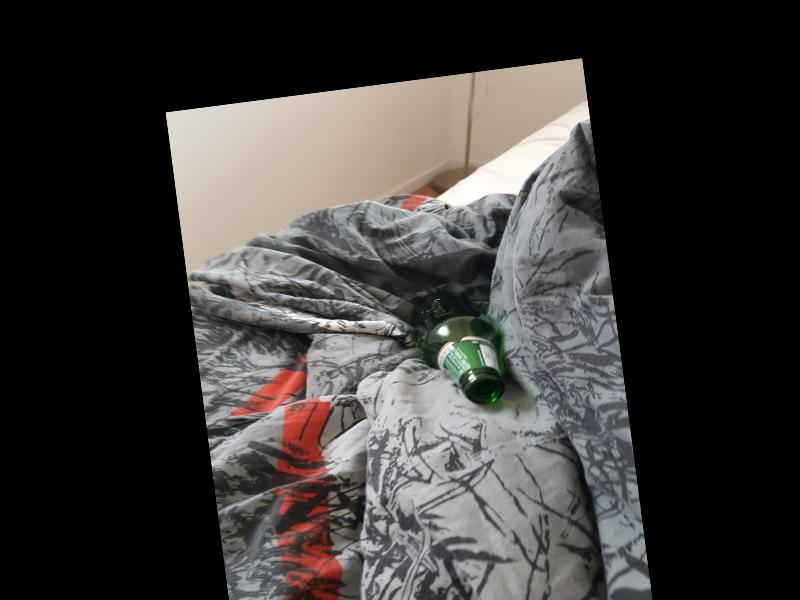Beer: (409, 283, 510, 412)
